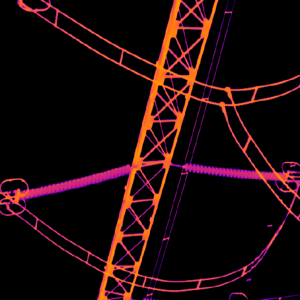insulator: (19, 161, 132, 200), (181, 157, 287, 183)
